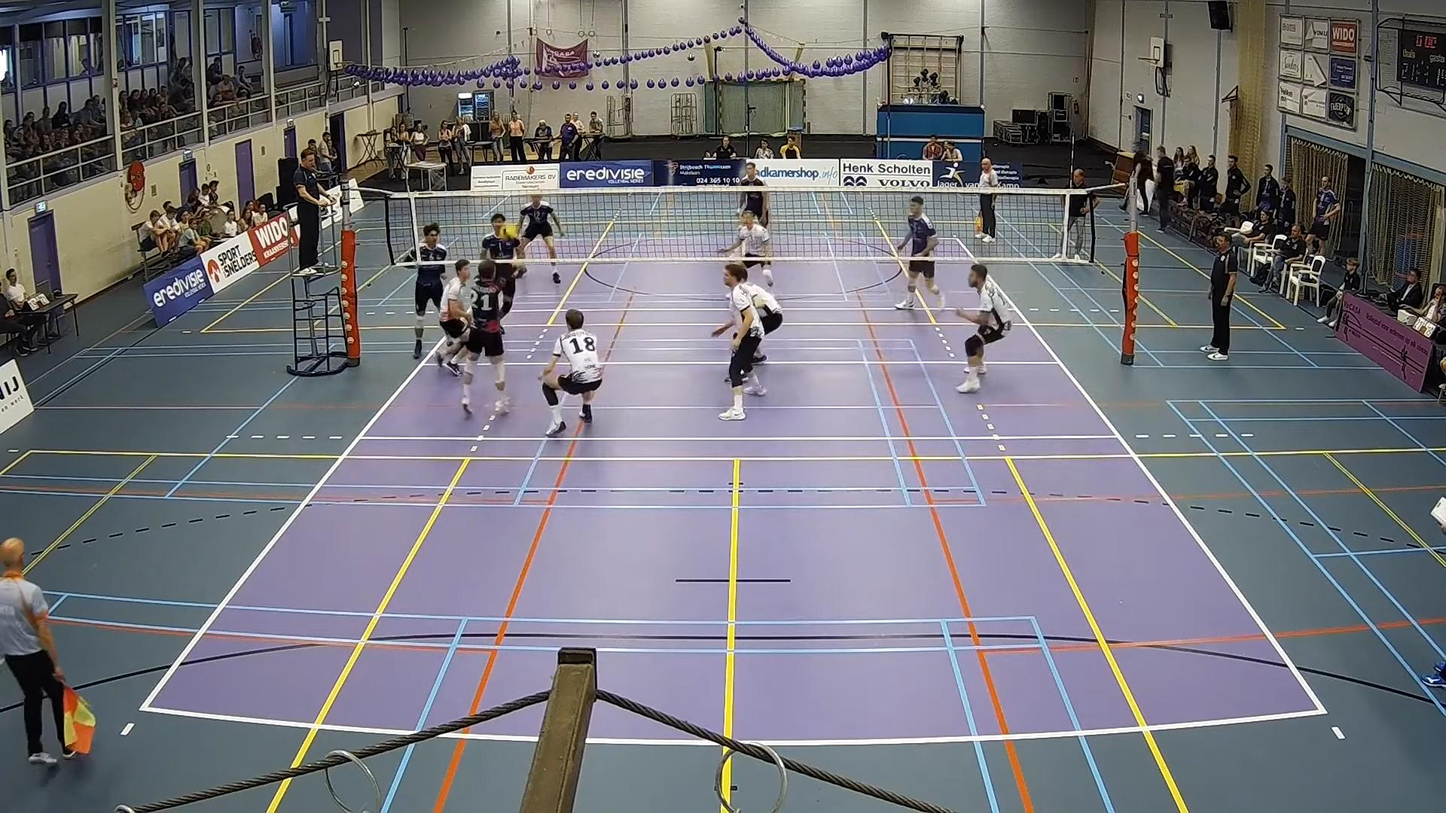Dig: (458, 255, 509, 421)
Player: (712, 263, 765, 420), (540, 309, 602, 436), (956, 264, 1011, 392), (402, 223, 447, 358), (895, 196, 944, 309), (482, 212, 525, 316), (719, 209, 773, 287), (436, 259, 471, 375), (517, 196, 562, 282), (742, 282, 782, 338), (738, 162, 769, 227)
ball: (496, 225, 517, 240)
